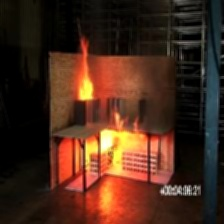fire: (68, 31, 108, 110), (90, 120, 132, 175)
